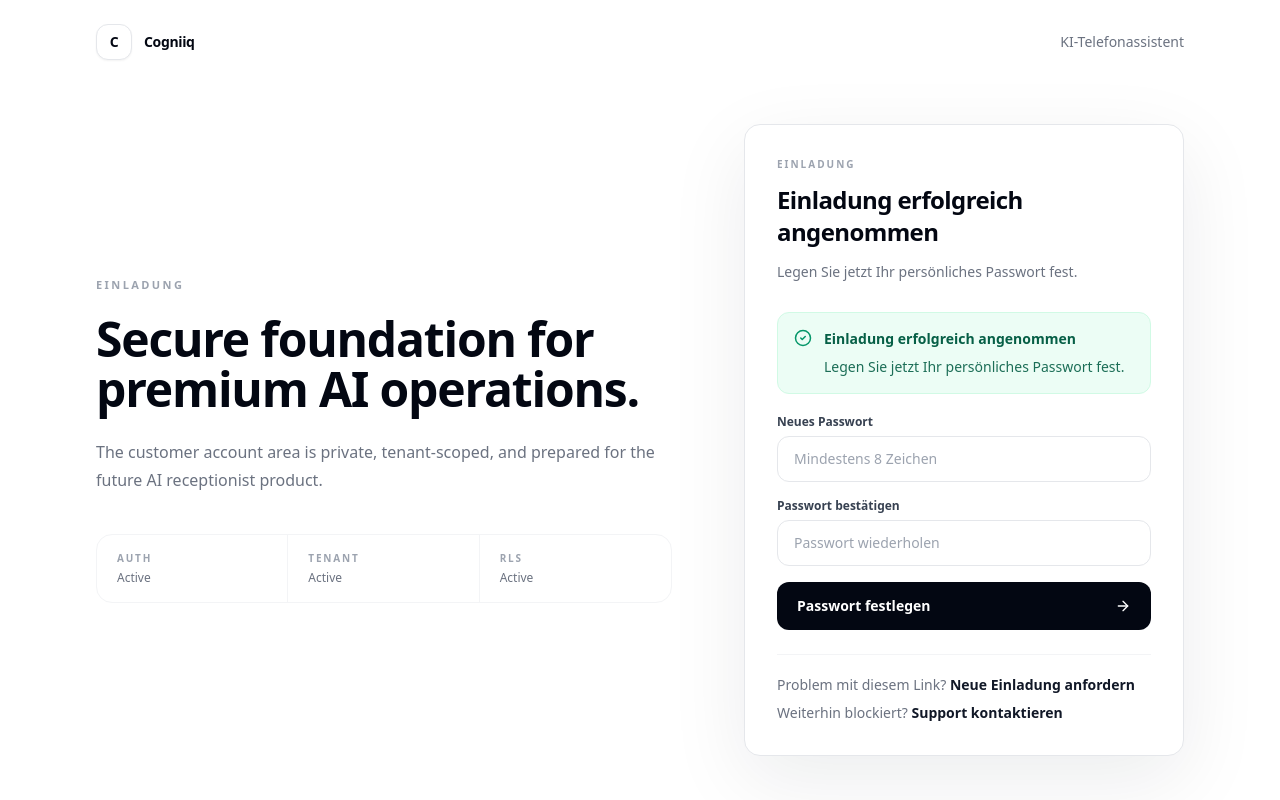
Test: invite flow › suppresses the raw Supabase message when the password update fails
This screenshot has width=1280, height=800.
Type "correct-horse-1" into the password field labelled "Neues Passwort" at (964,459), box [777, 436, 1151, 482]
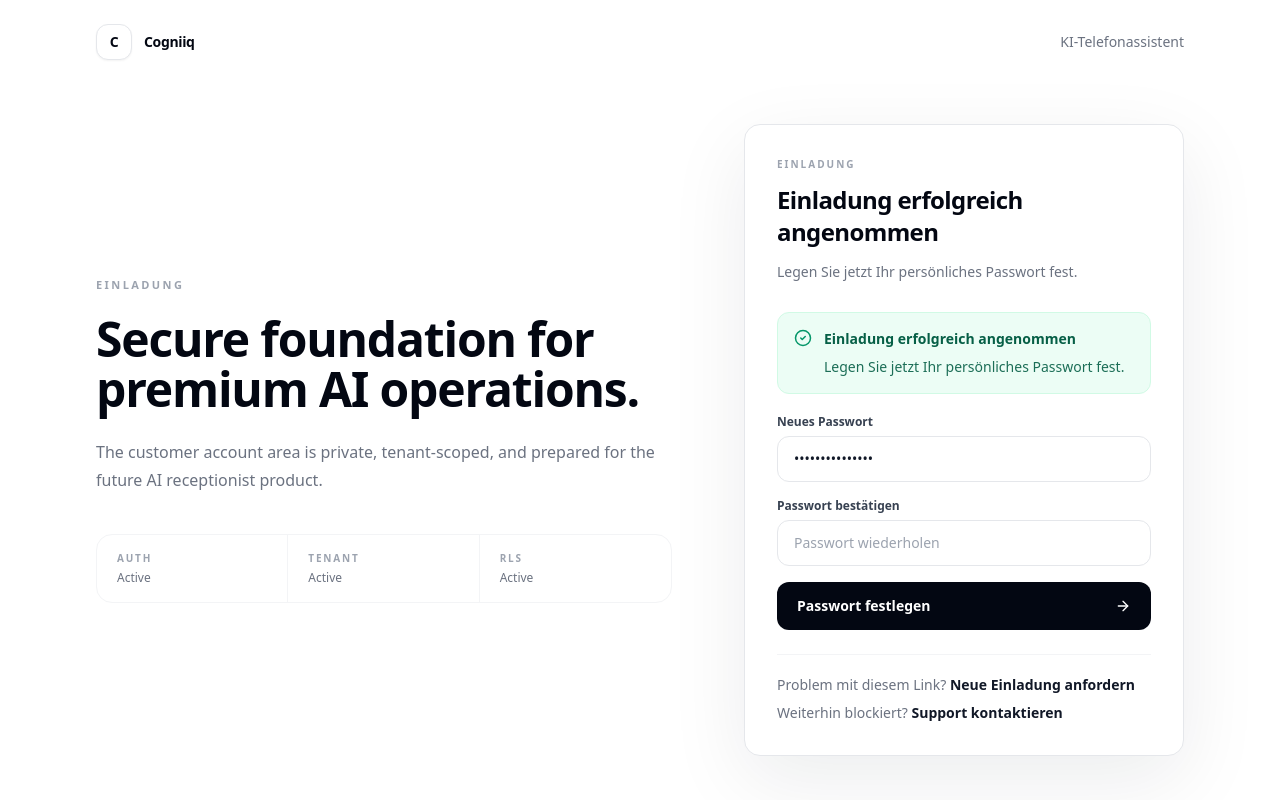
Type "correct-horse-1" into the password field labelled "Passwort bestätigen" at (964,543), box [777, 520, 1151, 566]
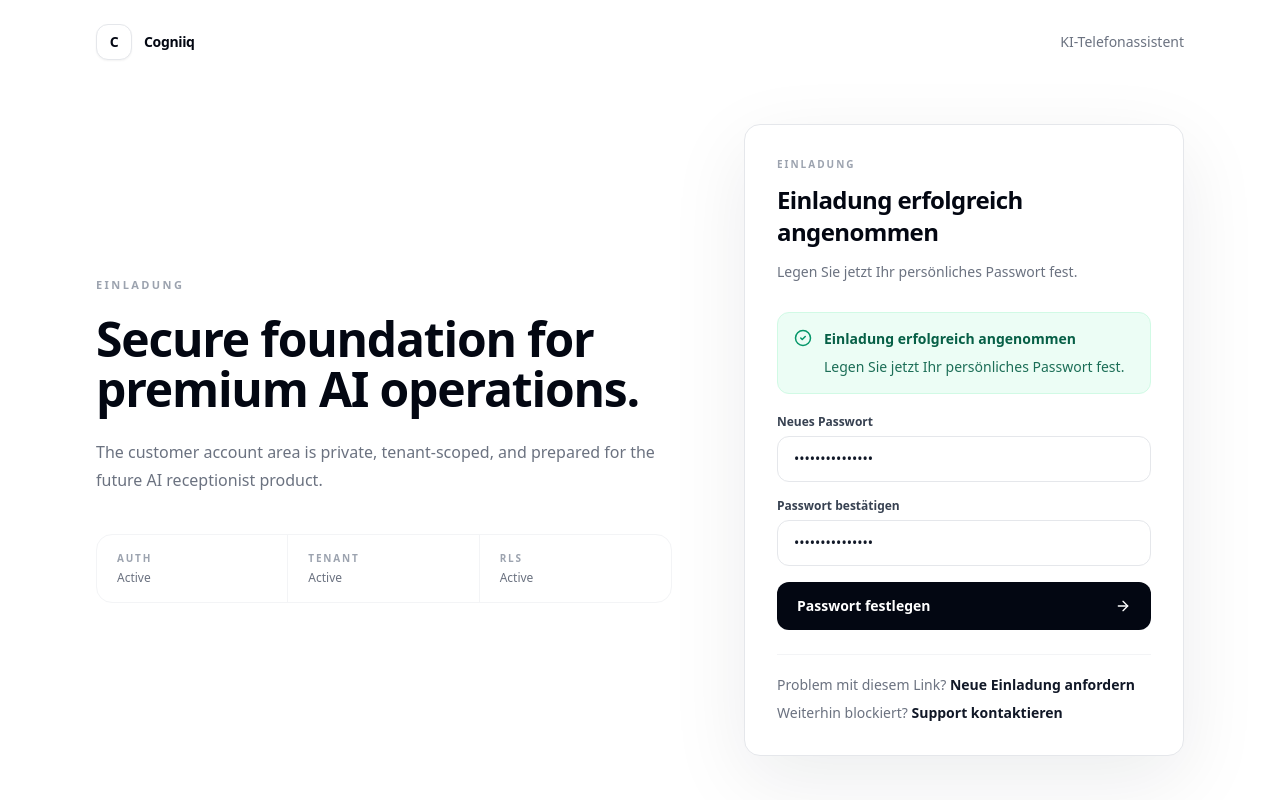
Click the button "Passwort festlegen" at (864,606), box [777, 582, 1151, 630]
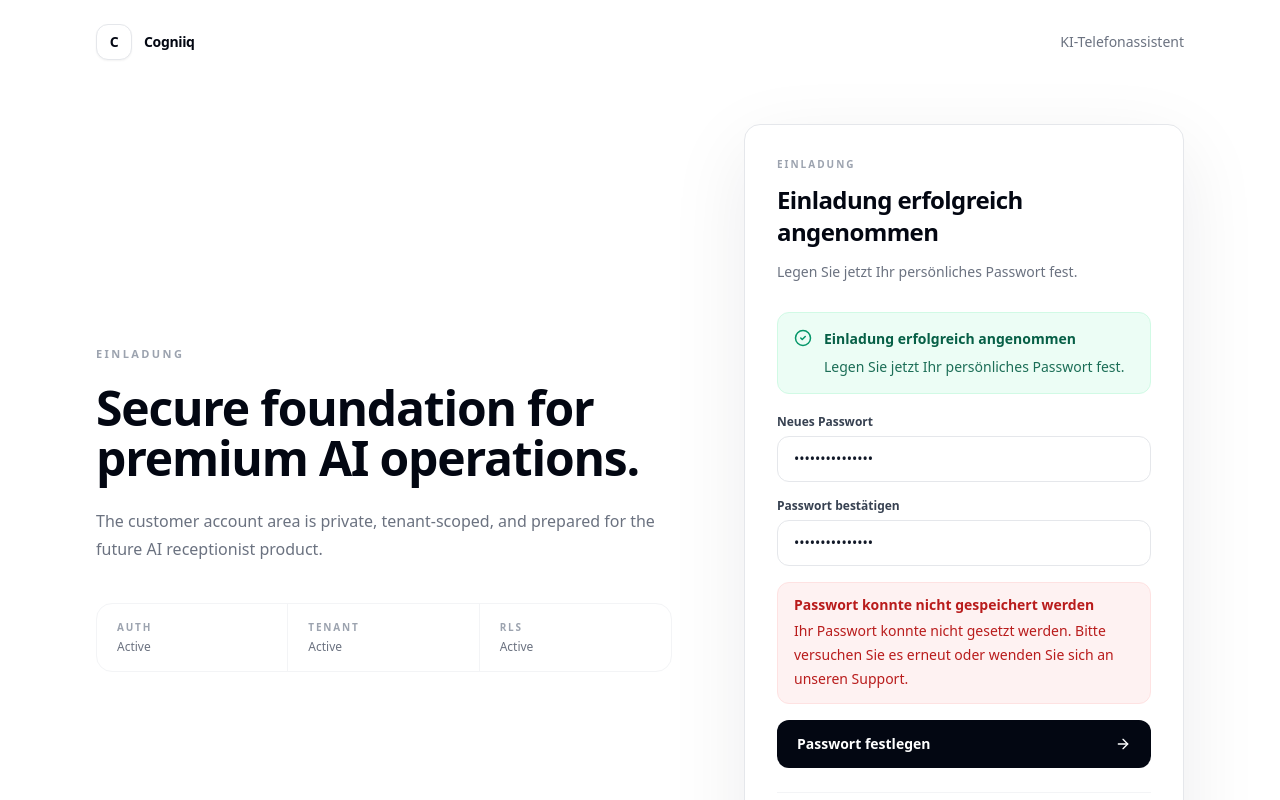
Now the message that starts with "Passwort konnte nicht gespeichert werden" is shown, box [794, 595, 1094, 614]
